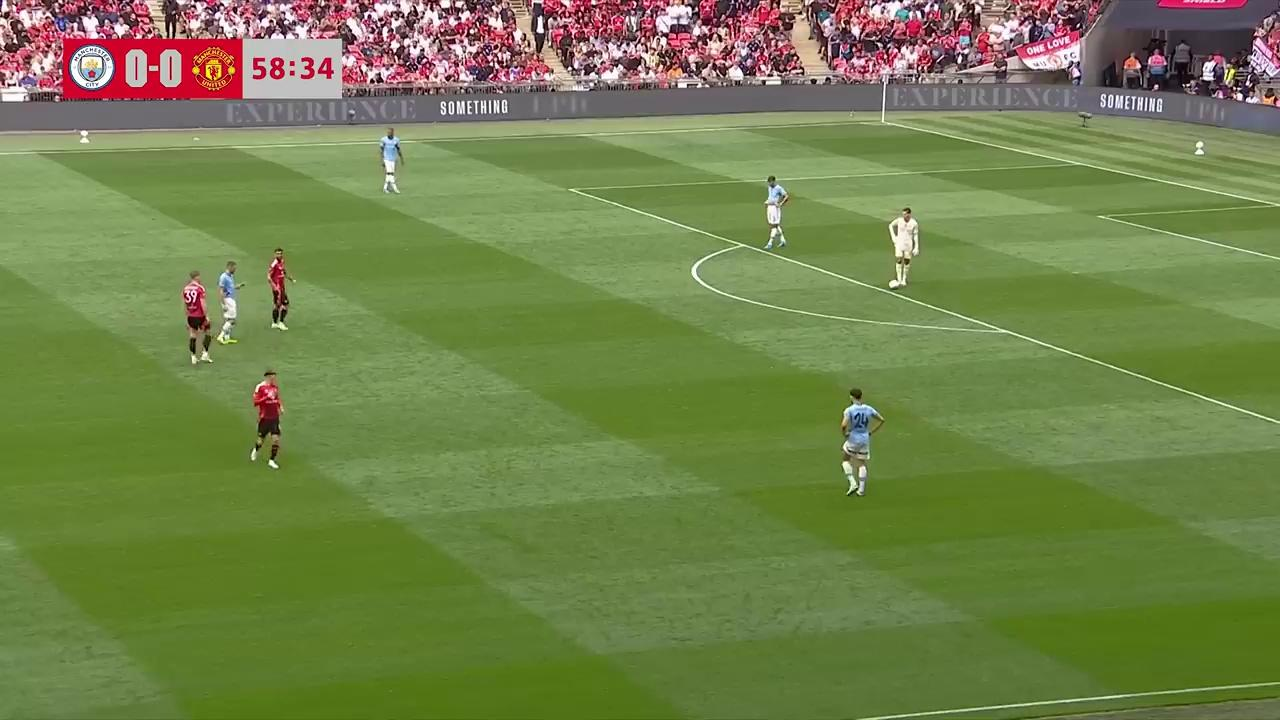ball: (888, 277, 899, 291)
player: (840, 388, 883, 497), (249, 368, 284, 469), (181, 271, 214, 365), (266, 247, 296, 330), (888, 206, 918, 288), (216, 261, 244, 345), (764, 176, 788, 252), (378, 130, 401, 194), (380, 127, 404, 168)
